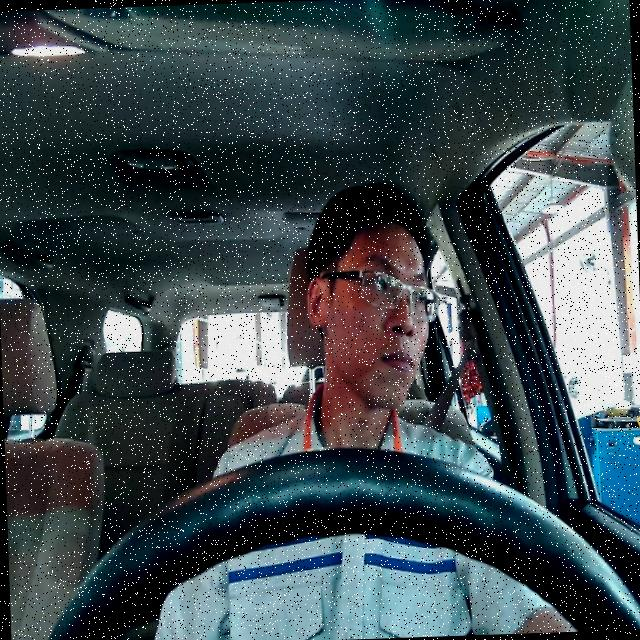focused: (304, 213, 436, 413)
